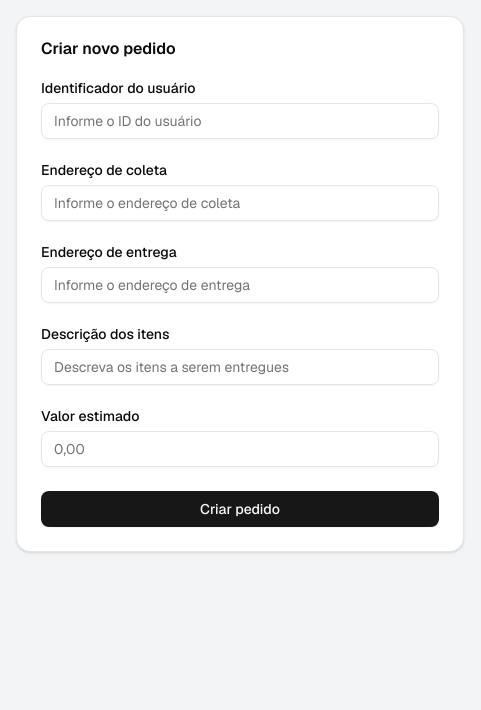
Test case: OrderNewPage › displays validation errors when fields are empty
Click the button "Criar pedido": {"x": 240, "y": 509} [41, 491, 439, 527]
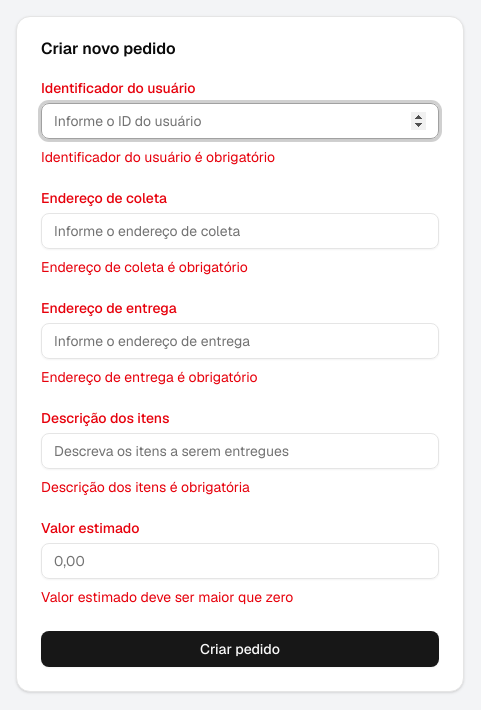
Result: the text "Identificador do usuário é obrigatório" is shown at [41, 148, 275, 166]
Result: the text "Endereço de coleta é obrigatório" is shown at [41, 258, 248, 276]
Result: the text "Endereço de entrega é obrigatório" is shown at [41, 368, 257, 386]
